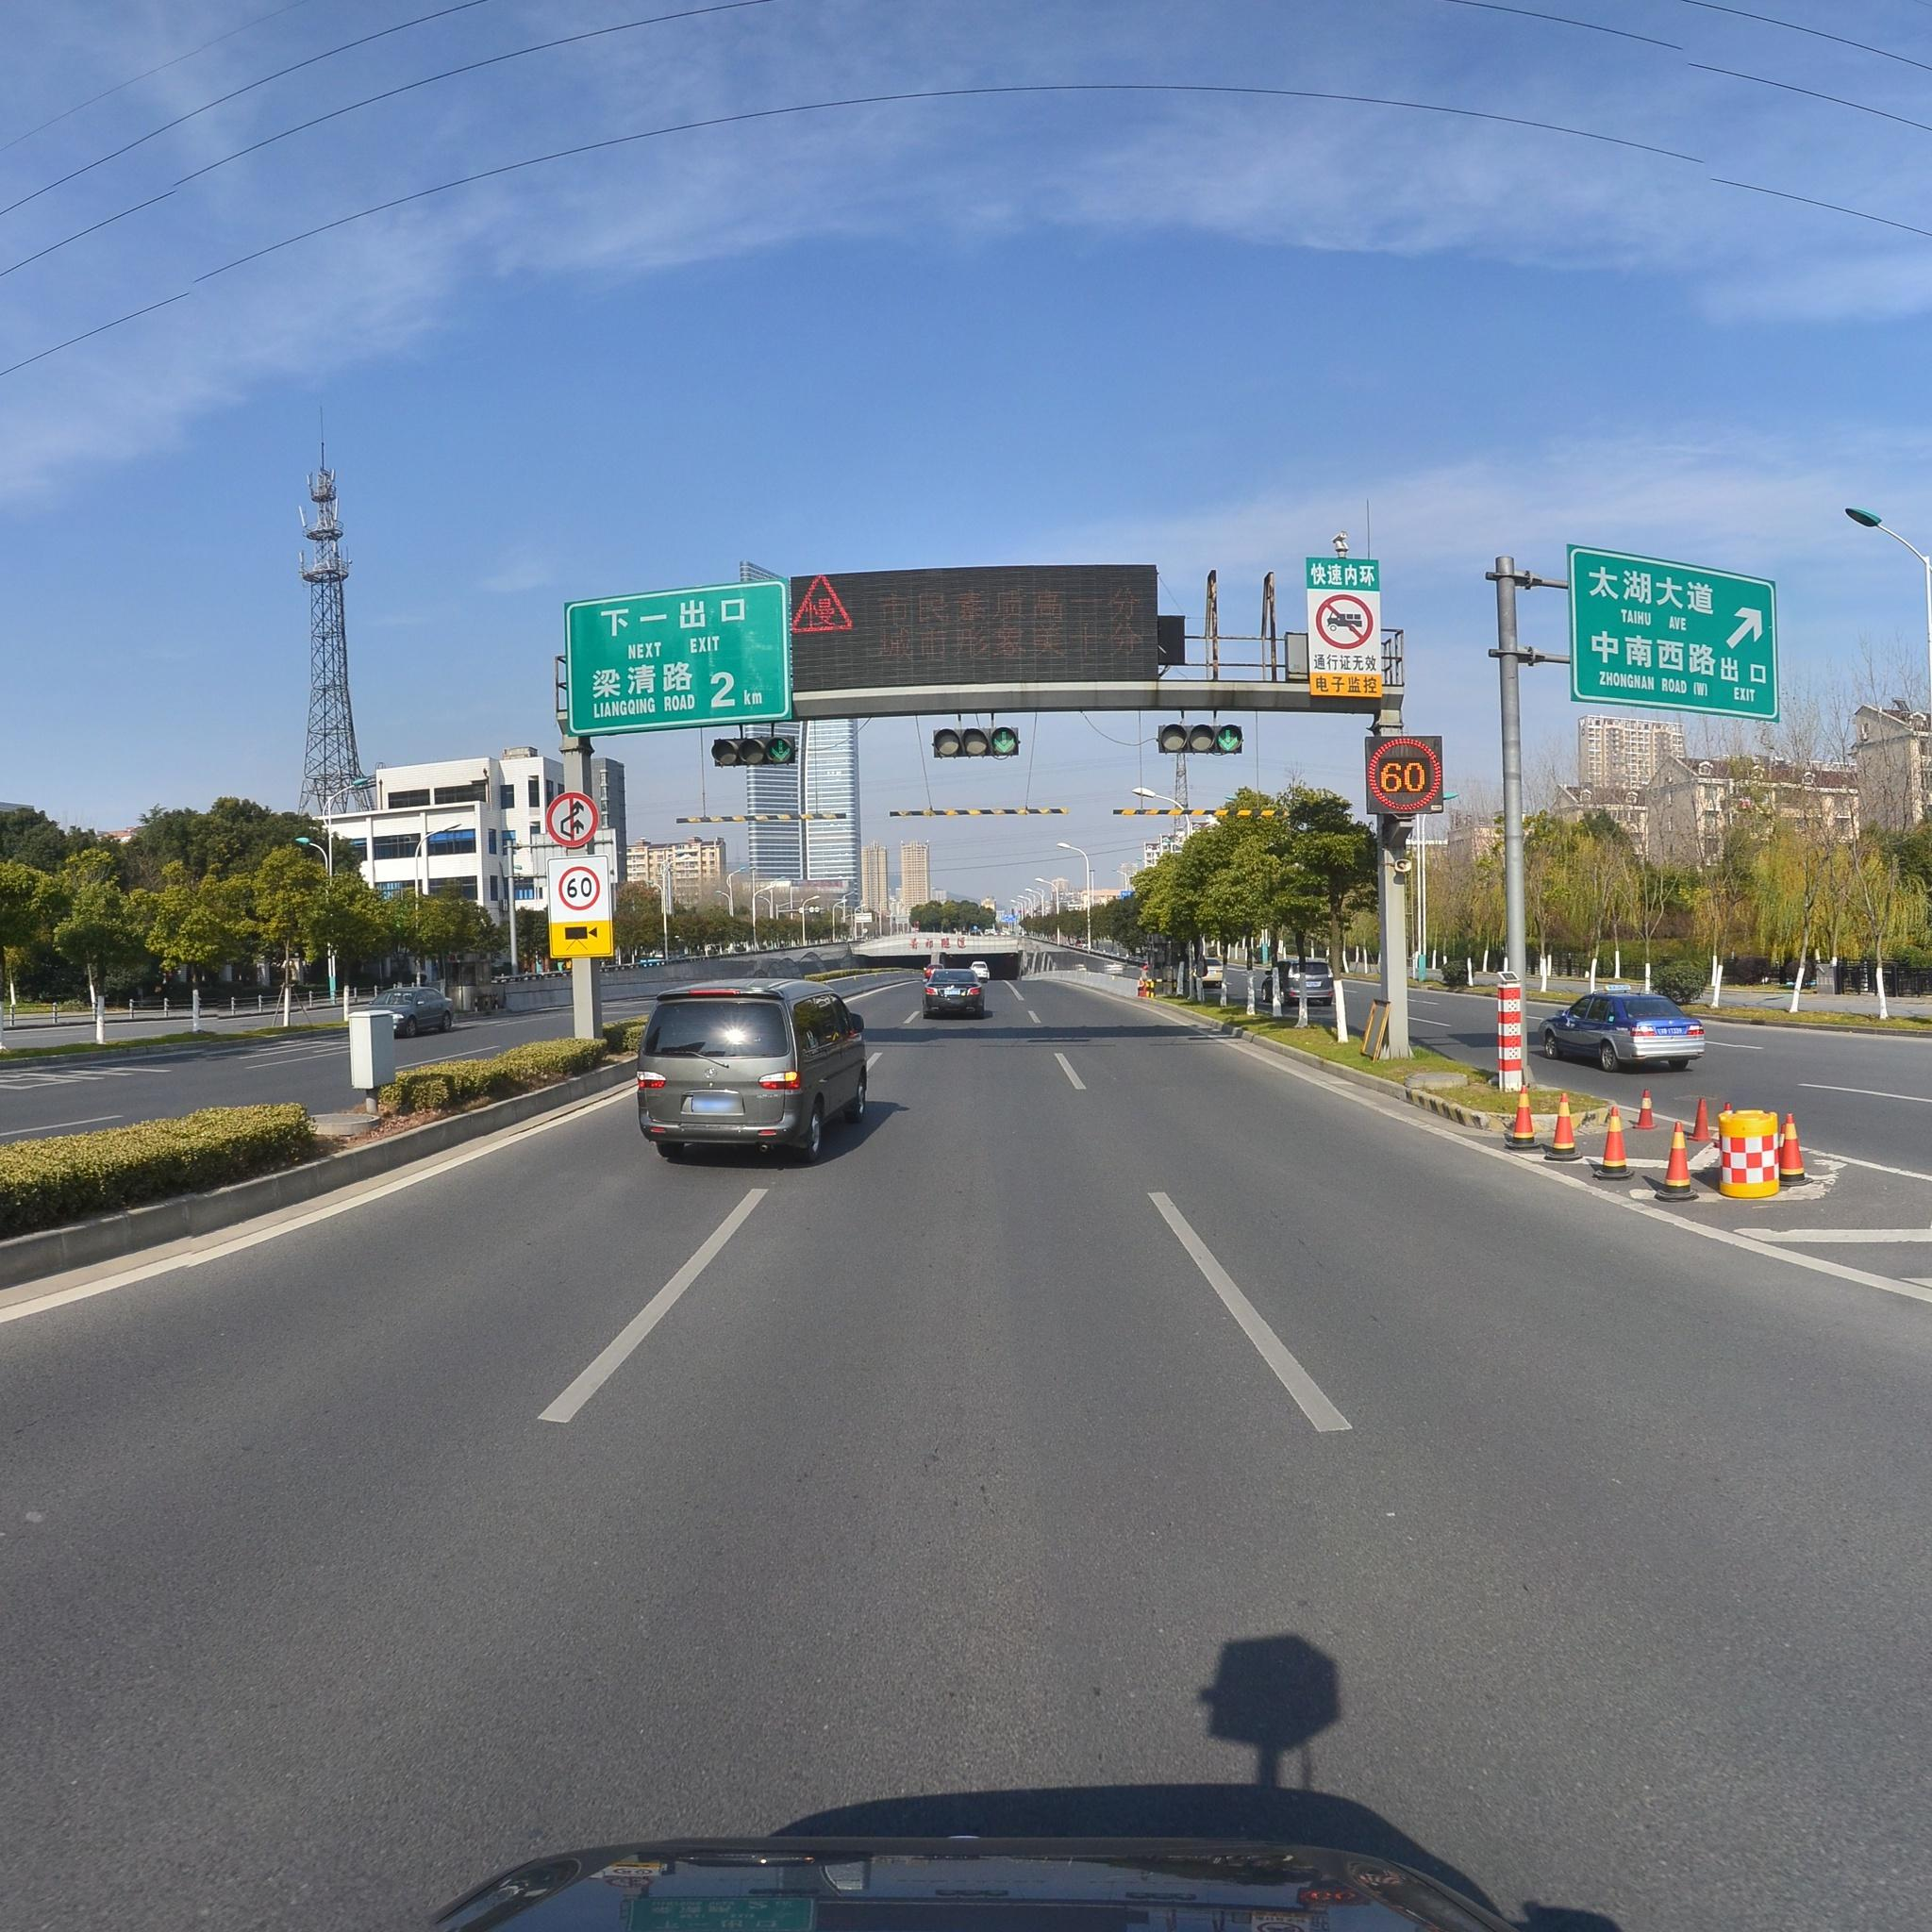p26: (1320, 591, 1371, 648)
pl60: (557, 869, 594, 916)
